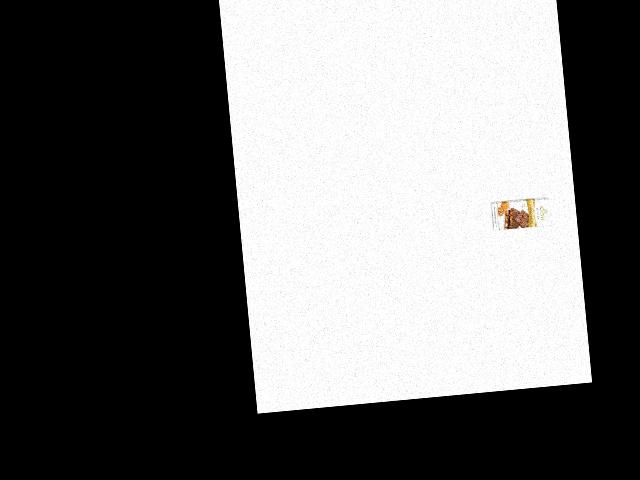chocolate: (488, 195, 554, 231)
